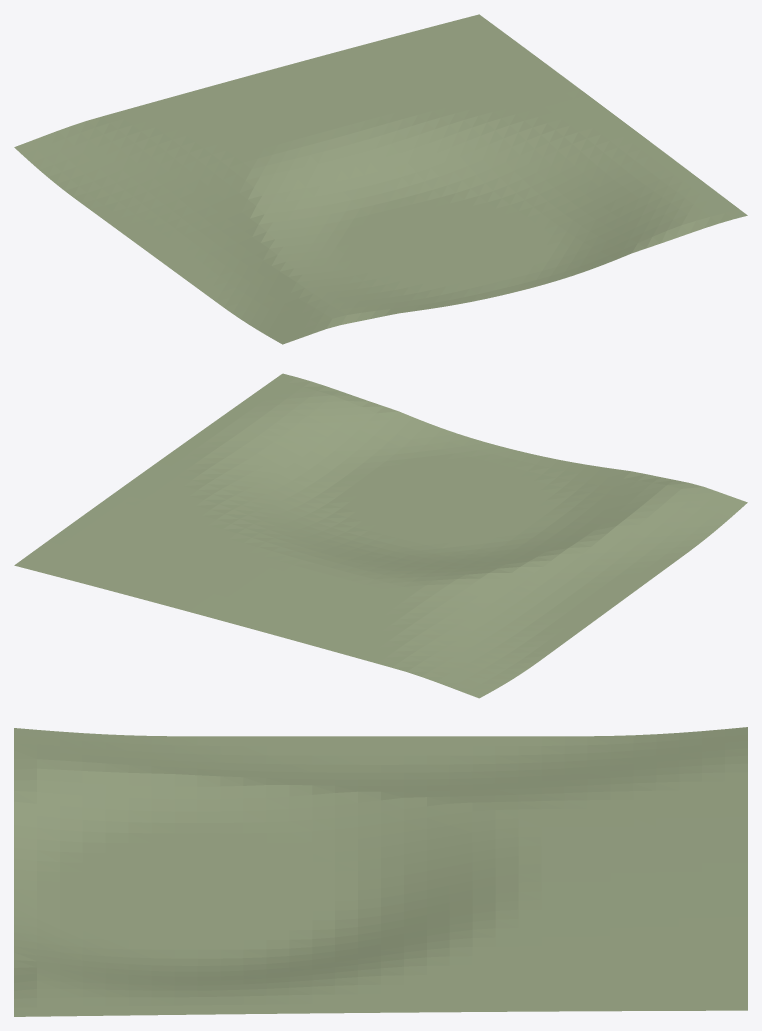
The model's file is gardens-3-6.glb.
3 views of the same model, one above another, from view 1: azimuth 30°, elevation 25°; view 2: azimuth 150°, elevation 25°; view 3: azimuth 270°, elevation 25° (orthographic). The views are drawn at different scales.
Visible parts, largest first — view 1: gardens-3-6; view 2: gardens-3-6; view 3: gardens-3-6.
Part boxes in pixels (x1,y1,x2,y2): gardens-3-6: [14, 14, 747, 344]; gardens-3-6: [14, 373, 747, 698]; gardens-3-6: [14, 727, 747, 1016].
Size of the model in its own units: 256 by 13.77 by 256.
